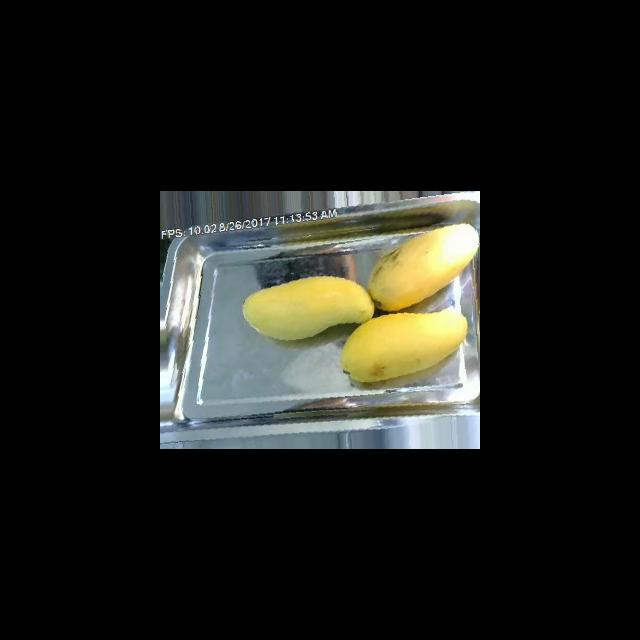Mango: (367, 222, 479, 312), (340, 306, 468, 382), (242, 274, 374, 340)
